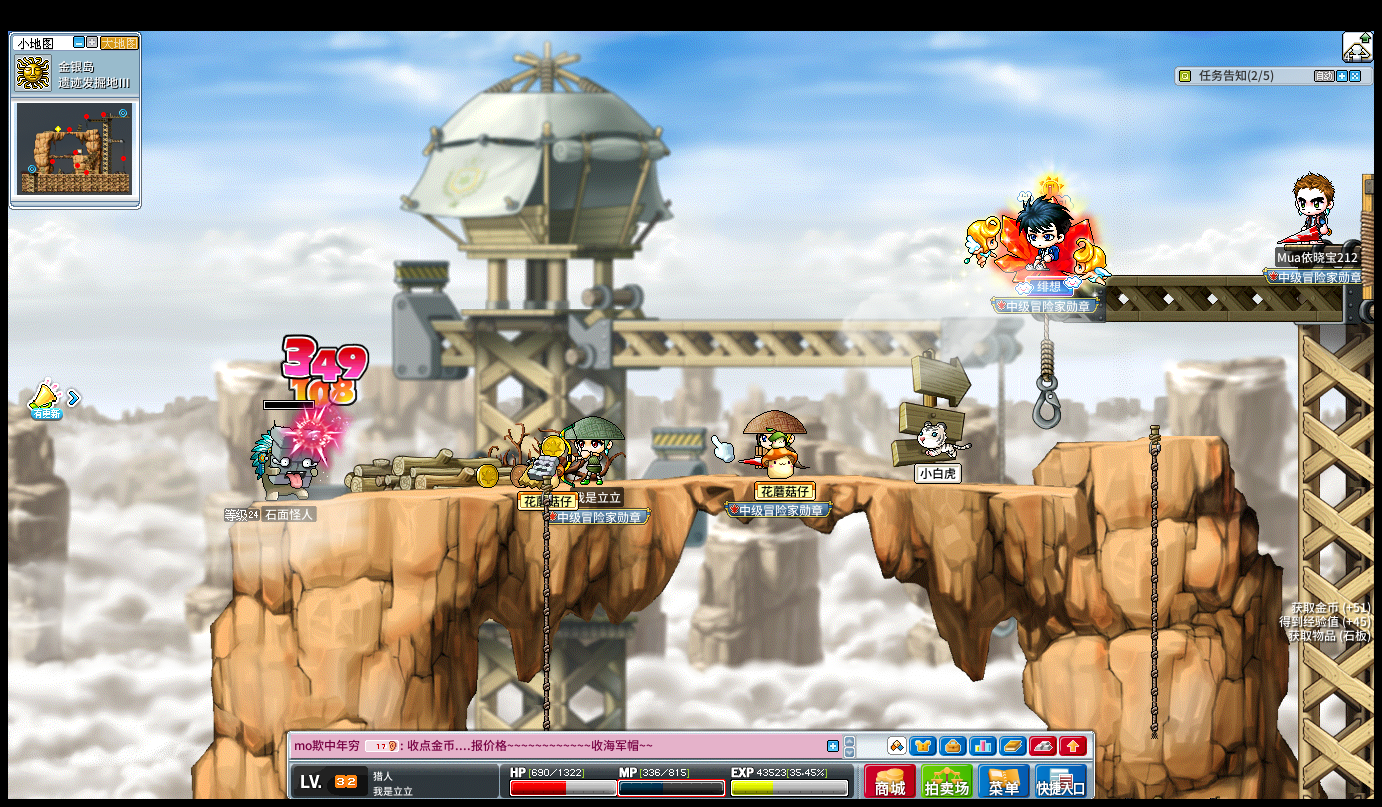floor: (247, 469, 1128, 497), (1053, 431, 1225, 447), (1055, 434, 1230, 448)
monster: (249, 426, 300, 499)
rope: (1145, 418, 1161, 738), (538, 470, 551, 740), (539, 475, 551, 678), (1040, 314, 1053, 424)
